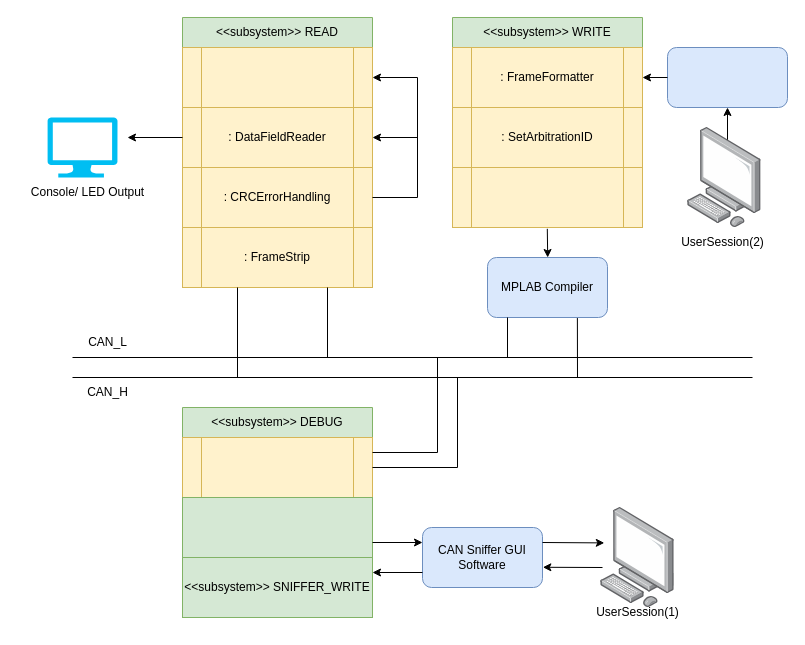
This 805x645 diagram has some shape labels left out. Each missing label, with the centre of its shape:
": ArbitrationIDReader" belongs at (277,77).
": DataField" belongs at (547,197).
": SnifferIO" belongs at (277,467).
"<<subsystem>> SNIFFER_READ" belongs at (277,527).
"MPLABX IDE" belongs at (727,77).
